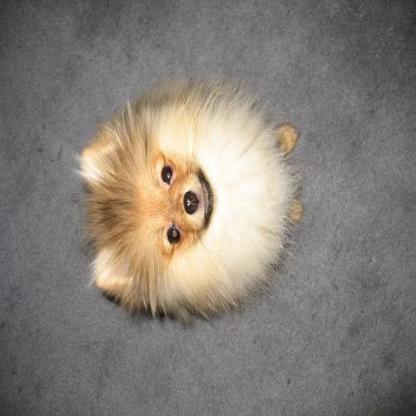Pomeranian: (73, 84, 304, 320)
